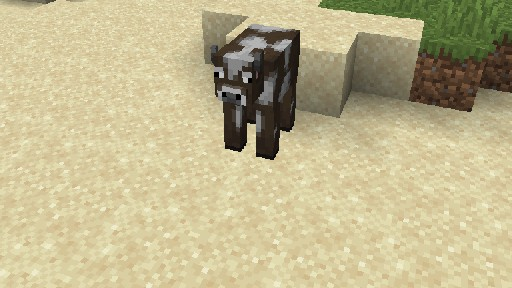cow: (209, 22, 300, 160)
